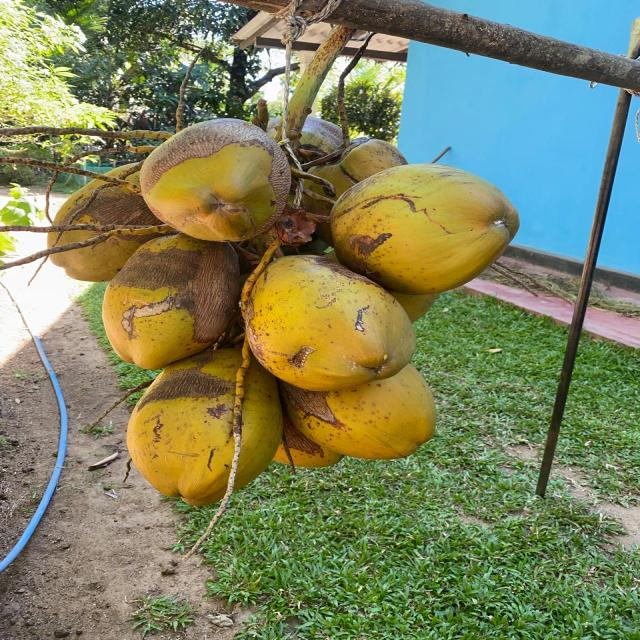coconut: (126, 348, 282, 503), (331, 163, 515, 294), (242, 253, 416, 389), (102, 232, 242, 367), (138, 118, 290, 242), (281, 358, 436, 461), (48, 164, 170, 280), (300, 137, 408, 240), (268, 395, 343, 467), (264, 114, 346, 161)
